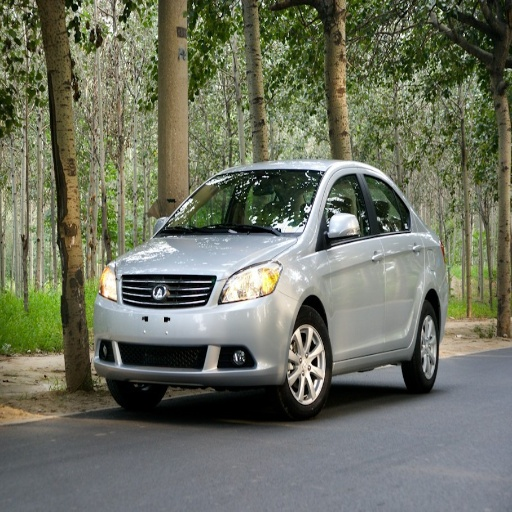front_bumper: (92, 274, 296, 384)
front_glass: (157, 169, 323, 235)
front_left_door: (317, 167, 383, 358)
